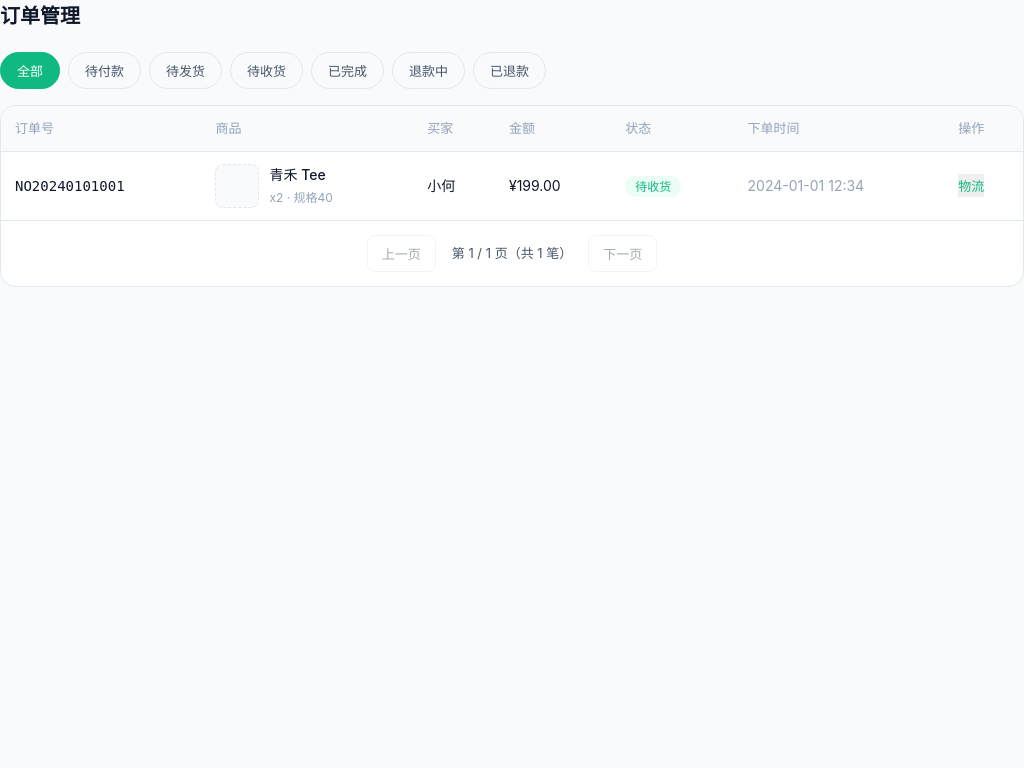
Test: merchant/Orders 订单管理 › 物流弹窗（P2-18） › 打开物流弹窗渲染时间线
Click the button with class "link-btn". click: click(971, 186)
box: [958,174,984,197]
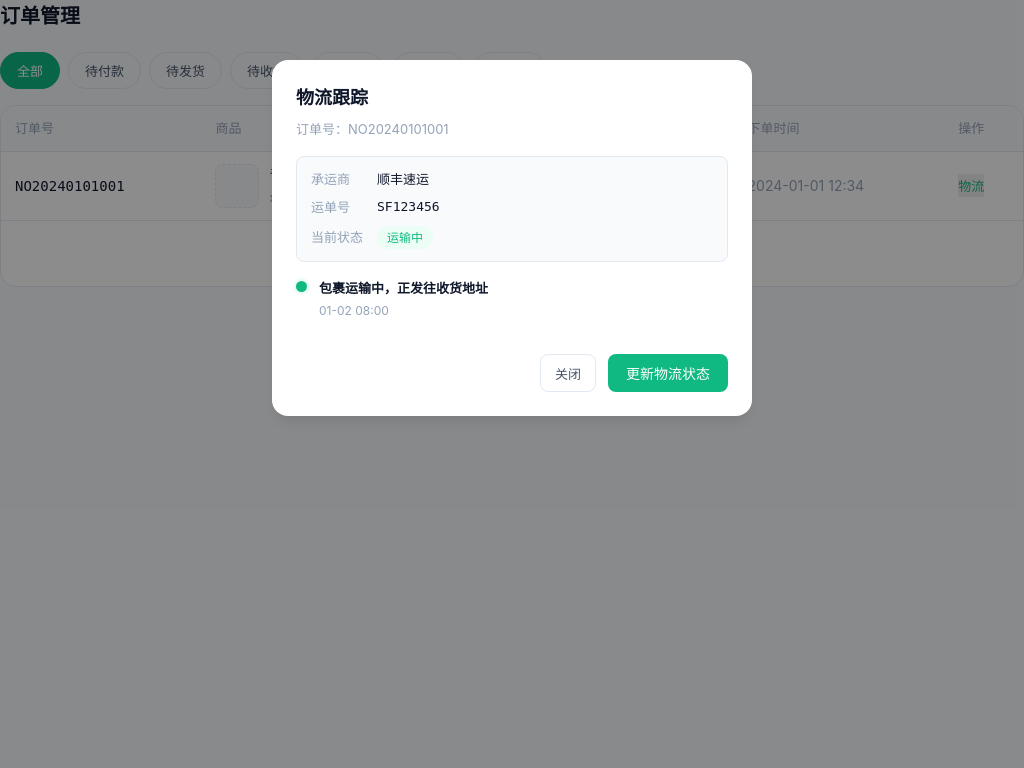
expect the heading with class "modal-title" reads "物流跟踪": met, box [296,87,368,108]
expect the text "顺丰速运" is shown: met, box [377,169,429,189]
expect the text "SF123456" is shown: met, box [377,197,440,218]
